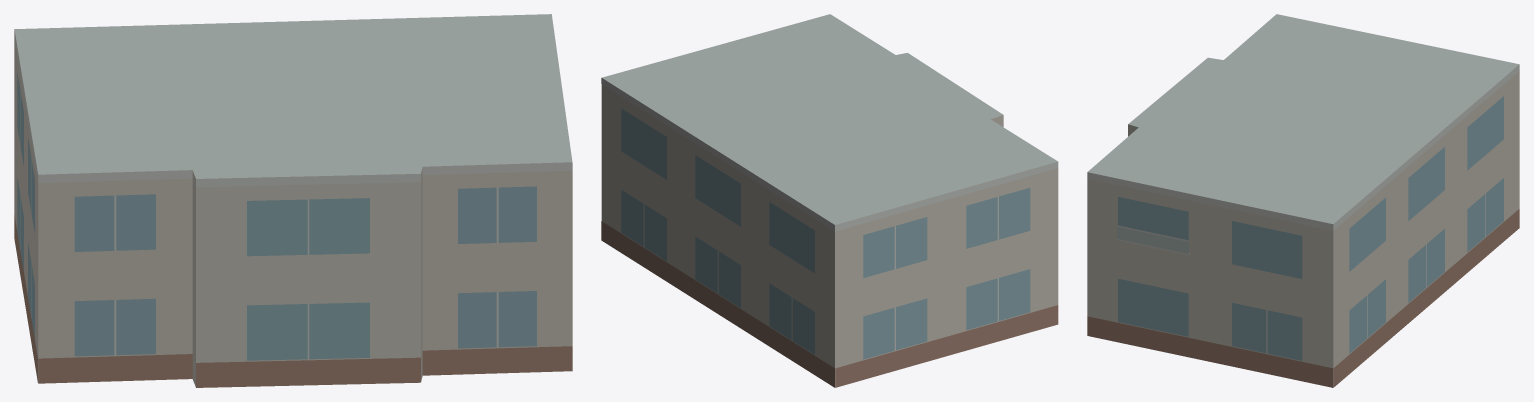
Rendered from survey-upis-32886811.glb.
The picture shows the model from 3 angles, left to right: view 1: azimuth 30°, elevation 25°; view 2: azimuth 150°, elevation 25°; view 3: azimuth 270°, elevation 25°; orthographic projection. The views are drawn at different scales.
Parts seen in each view (by area): view 1: survey-upis-32886811.tmp; view 2: survey-upis-32886811.tmp; view 3: survey-upis-32886811.tmp.
Part boxes in pixels (x1=…): survey-upis-32886811.tmp: x1=14, y1=14, x2=572, y2=387; survey-upis-32886811.tmp: x1=601, y1=14, x2=1058, y2=387; survey-upis-32886811.tmp: x1=1087, y1=14, x2=1519, y2=387.
Size of the model in its own units: 16.81 by 6.1 by 14.61.
